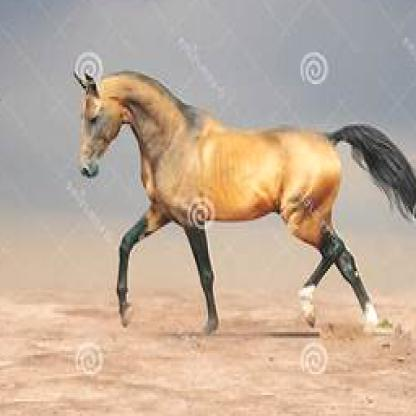horse: (66, 63, 415, 338)
